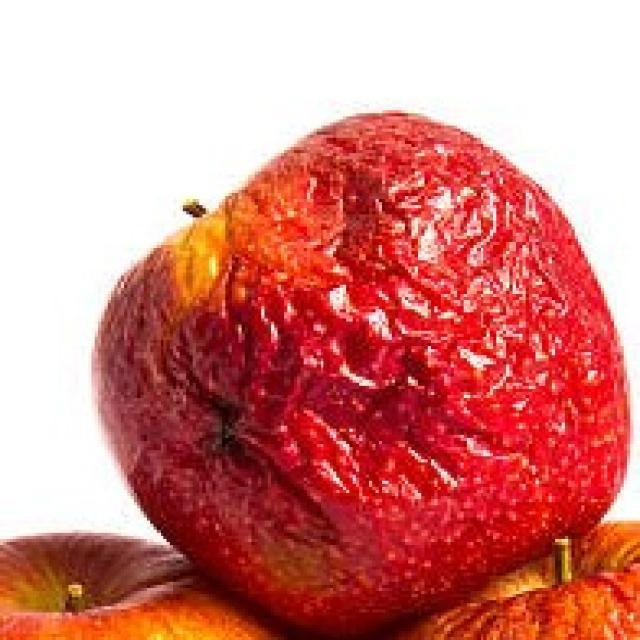overripe: (80, 104, 640, 635)
